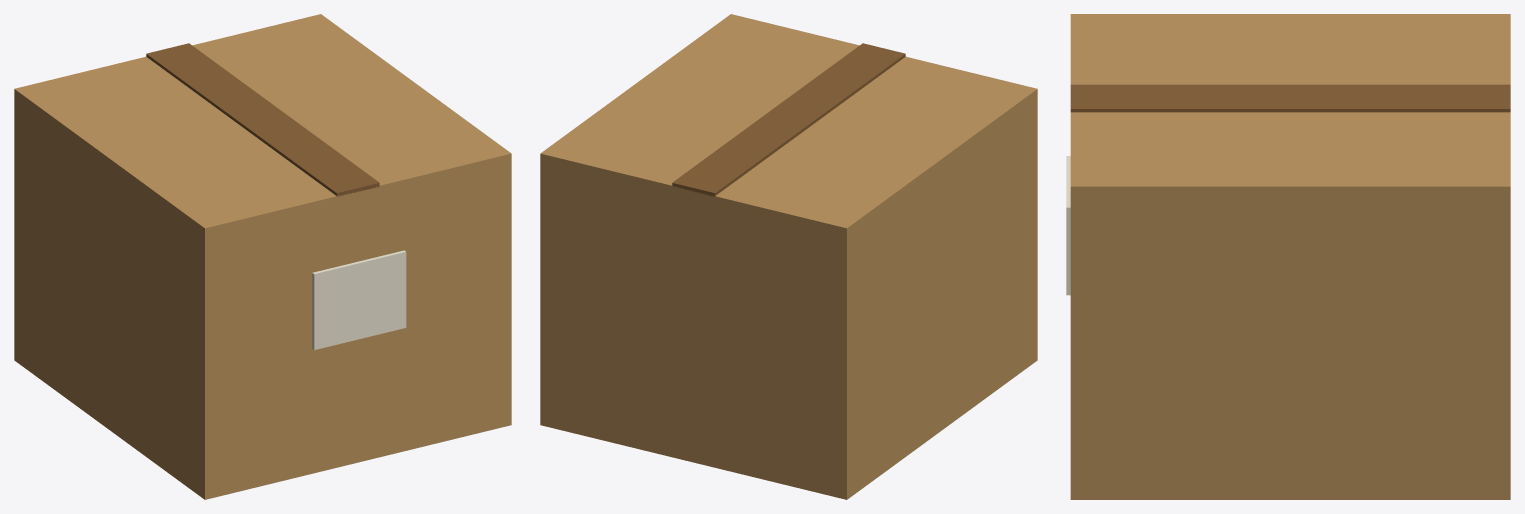
Rendered from BoxMedium.obj.
3 views of the same model, side by side, from view 1: azimuth 30°, elevation 25°; view 2: azimuth 150°, elevation 25°; view 3: azimuth 270°, elevation 25° (orthographic). The views are drawn at different scales.
Parts seen in each view (by area): view 1: BoxMedium; view 2: BoxMedium; view 3: BoxMedium.
Boxes of the visible parts, x1=… form: BoxMedium: x1=14, y1=14, x2=511, y2=499; BoxMedium: x1=540, y1=14, x2=1037, y2=499; BoxMedium: x1=1066, y1=14, x2=1510, y2=499.
Bounding box in the file's own units: 0.65 × 0.556 × 0.707.
